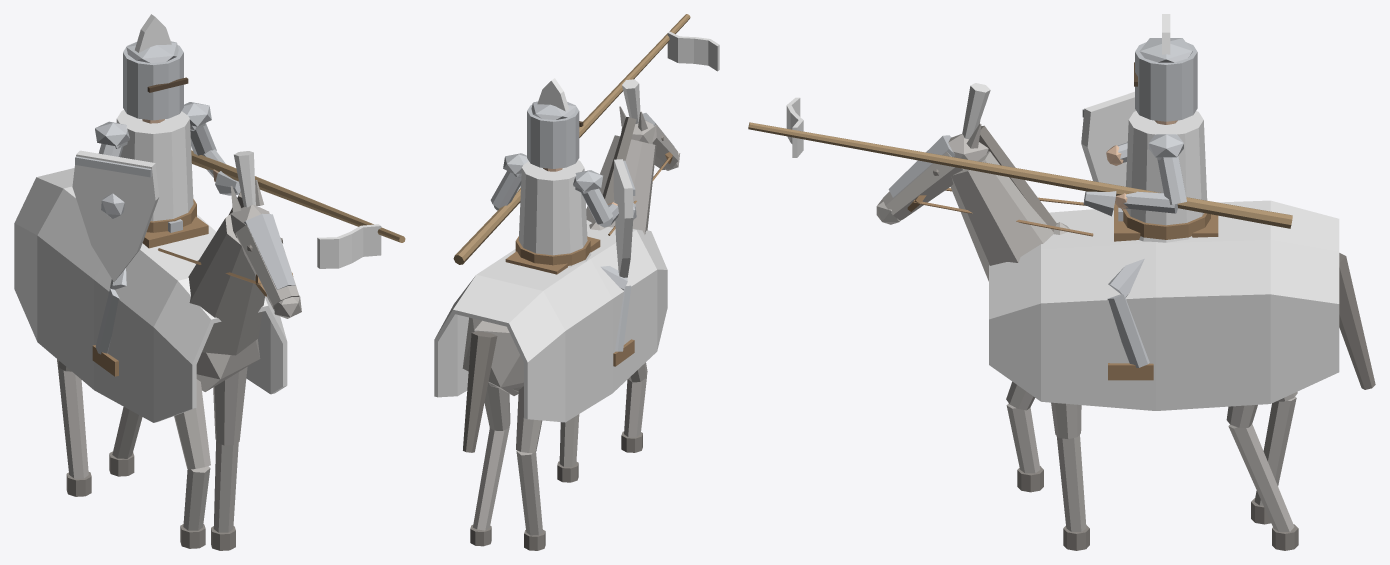
File: civ_unit_knight.glb
3 renders of one model, left to right at view 1: azimuth 30°, elevation 25°; view 2: azimuth 150°, elevation 25°; view 3: azimuth 270°, elevation 25°, orthographic. The views are drawn at different scales.
Visible parts, largest first — view 1: civ_unit_knight; view 2: civ_unit_knight; view 3: civ_unit_knight.
Boxes of the visible parts, <box> form: civ_unit_knight: <box>14,14,405,550</box>; civ_unit_knight: <box>434,14,719,550</box>; civ_unit_knight: <box>748,14,1375,550</box>.
Bounding box in the file's own units: 0.8855 × 2.74 × 3.01.
